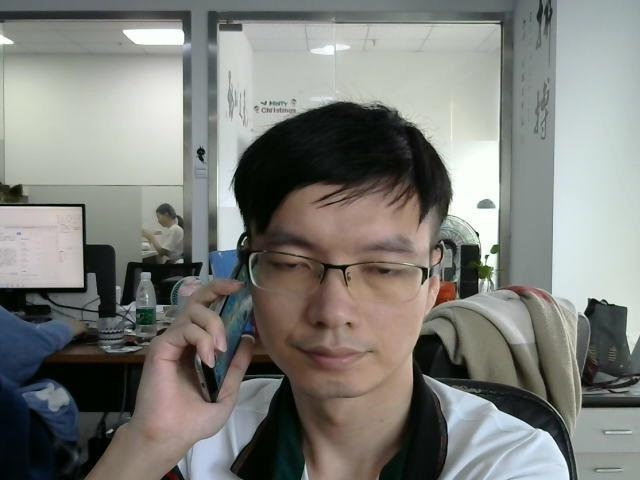hand: (145, 280, 255, 422)
